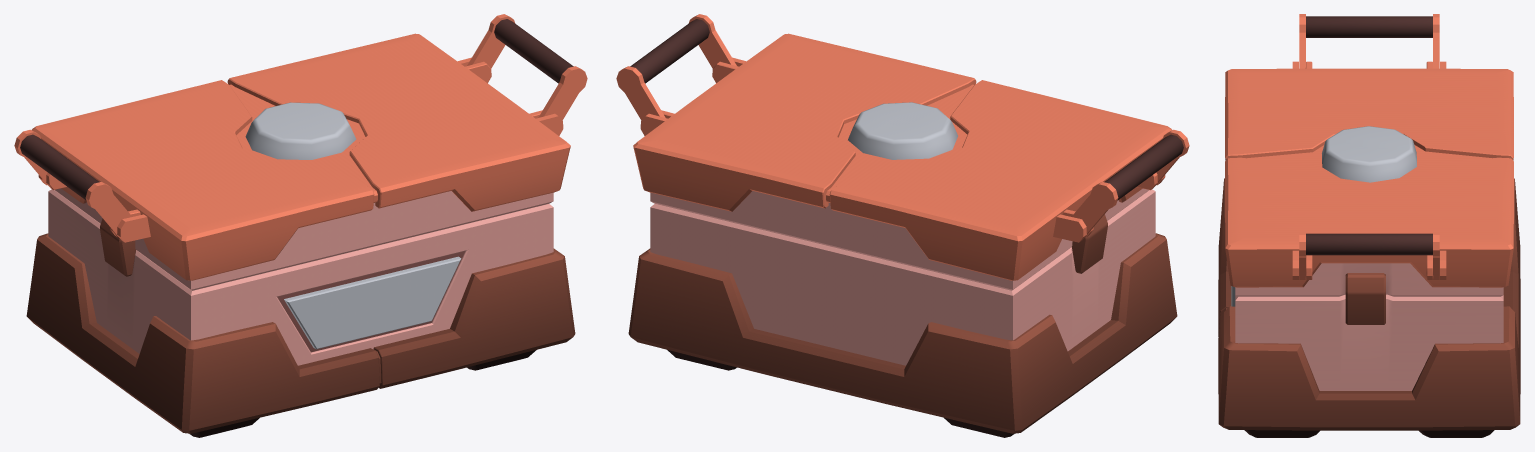
Rendered from SM_Coffre_03.fbx.
The picture shows the model from 3 angles, left to right: view 1: azimuth 30°, elevation 25°; view 2: azimuth 150°, elevation 25°; view 3: azimuth 270°, elevation 25°; orthographic projection. The views are drawn at different scales.
Visible parts, largest first — view 1: Coffre_03_Haut, Coffre_03_Bas; view 2: Coffre_03_Haut, Coffre_03_Bas; view 3: Coffre_03_Haut, Coffre_03_Bas.
Boxes of the visible parts, x1,y1,x2,y2 form: Coffre_03_Haut: [14, 14, 587, 290]; Coffre_03_Bas: [26, 189, 575, 437]; Coffre_03_Haut: [616, 14, 1189, 290]; Coffre_03_Bas: [628, 189, 1177, 437]; Coffre_03_Haut: [1225, 14, 1513, 324]; Coffre_03_Bas: [1218, 178, 1520, 437].
Bounding box in the file's own units: 108 × 52.62 × 60.13.
